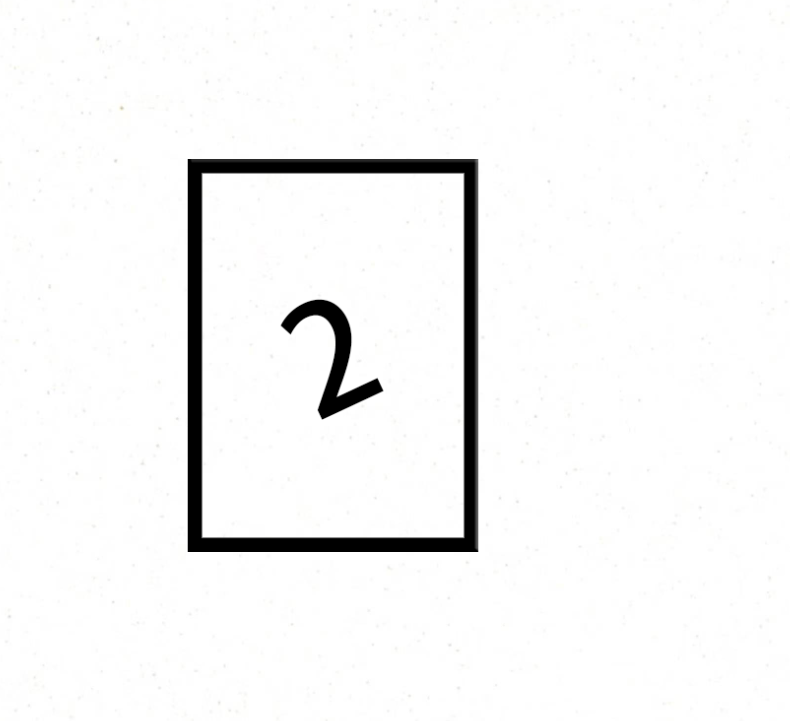two: (250, 267, 412, 444)
